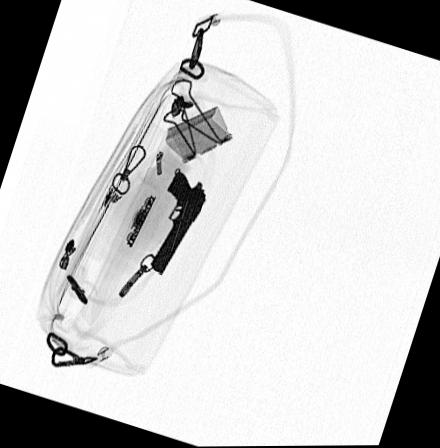Gun: (149, 169, 208, 275)
